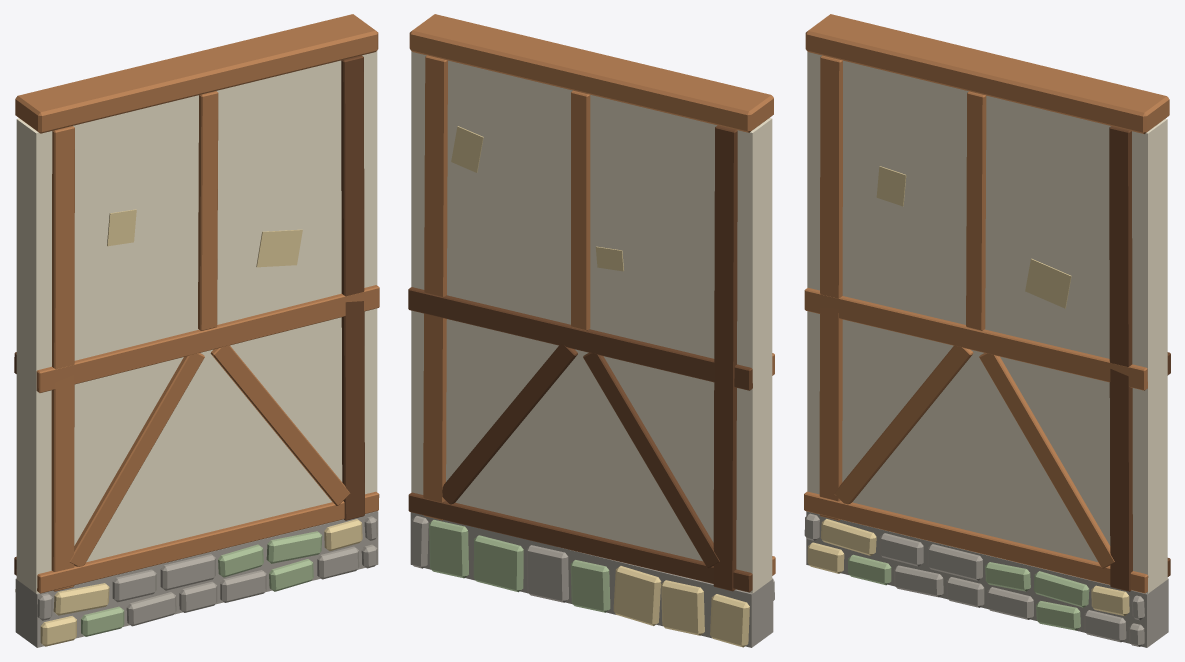
Rendered from wall_plain.glb.
3 renders of one model, left to right at view 1: azimuth 30°, elevation 25°; view 2: azimuth 150°, elevation 25°; view 3: azimuth 330°, elevation 25°, orthographic.
Visible parts, largest first — view 1: Wall Plain; view 2: Wall Plain; view 3: Wall Plain.
Boxes of the visible parts, left/top/right/bottom form: Wall Plain: left=14, top=14, right=379, bottom=647; Wall Plain: left=408, top=14, right=775, bottom=647; Wall Plain: left=804, top=14, right=1170, bottom=647.
Bounding box in the file's own units: 2 × 3 × 0.295.
1 material, 1 textured.
